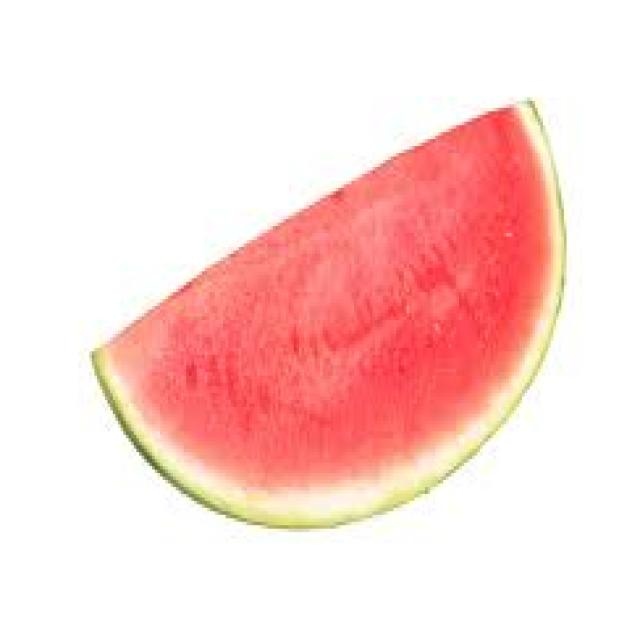watermelon: (82, 87, 588, 539)
